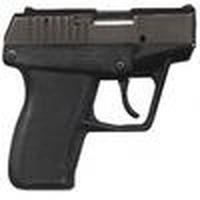gun: (2, 7, 193, 190)
